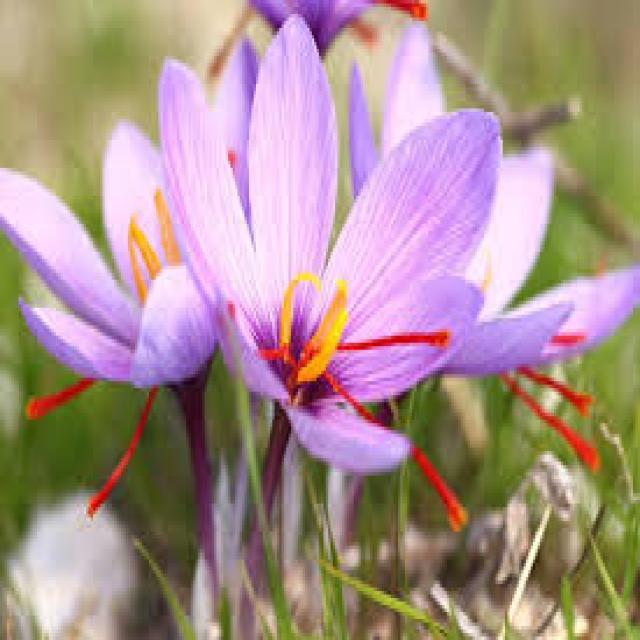Flower: (202, 19, 500, 467), (339, 18, 631, 376), (0, 139, 238, 395)
stigma: (505, 375, 601, 472), (89, 390, 158, 520), (416, 448, 468, 535), (24, 373, 102, 424), (525, 362, 591, 416), (337, 327, 457, 352)
